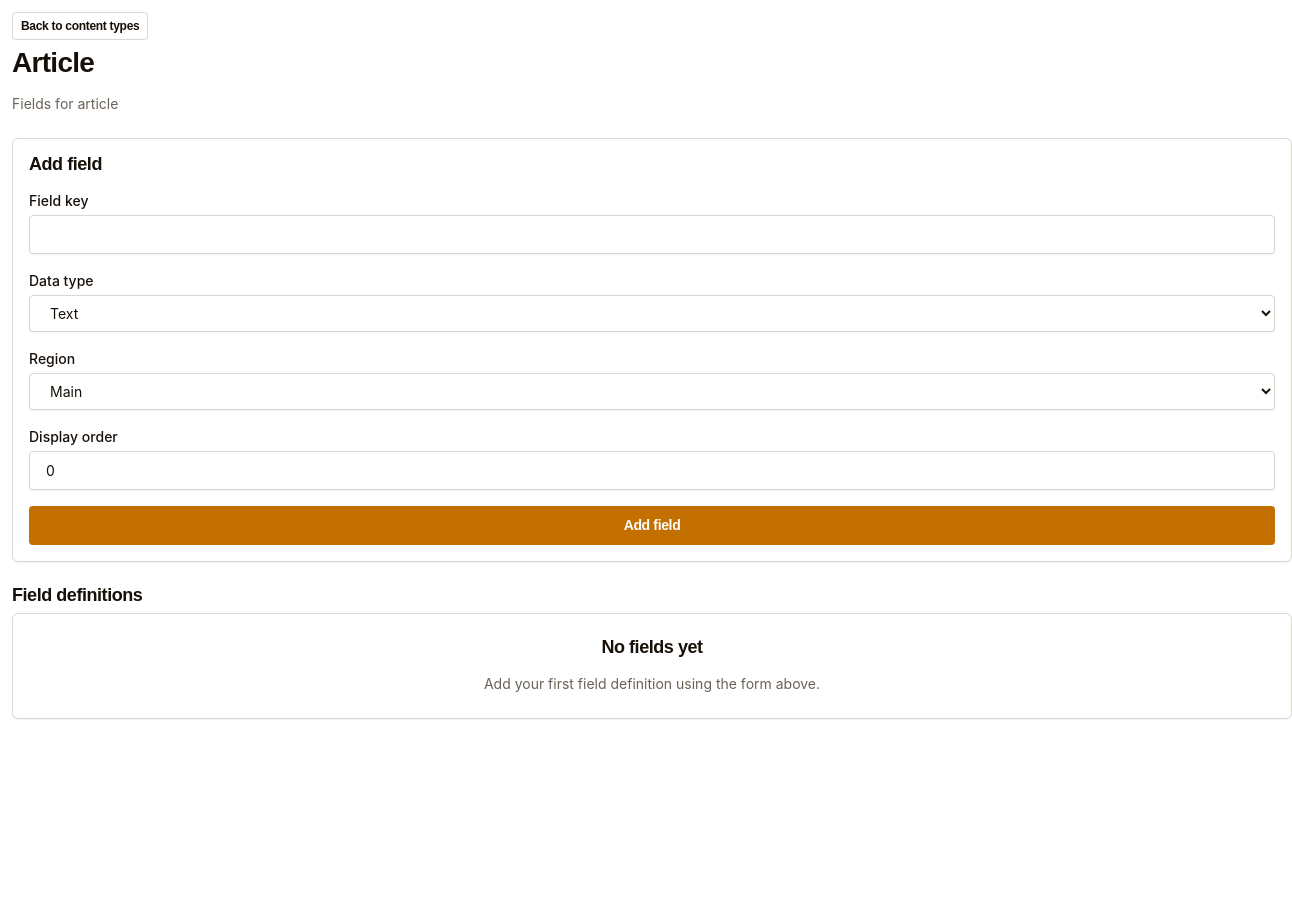
FieldDefsPage › requires a target content type for relation fields
Expected: the heading "Article" is shown, x1=12 y1=48 x2=94 y2=77
Select "Relation" in the dropdown labelled "Data type" at [652, 314], box x1=29 y1=295 x2=1275 y2=332
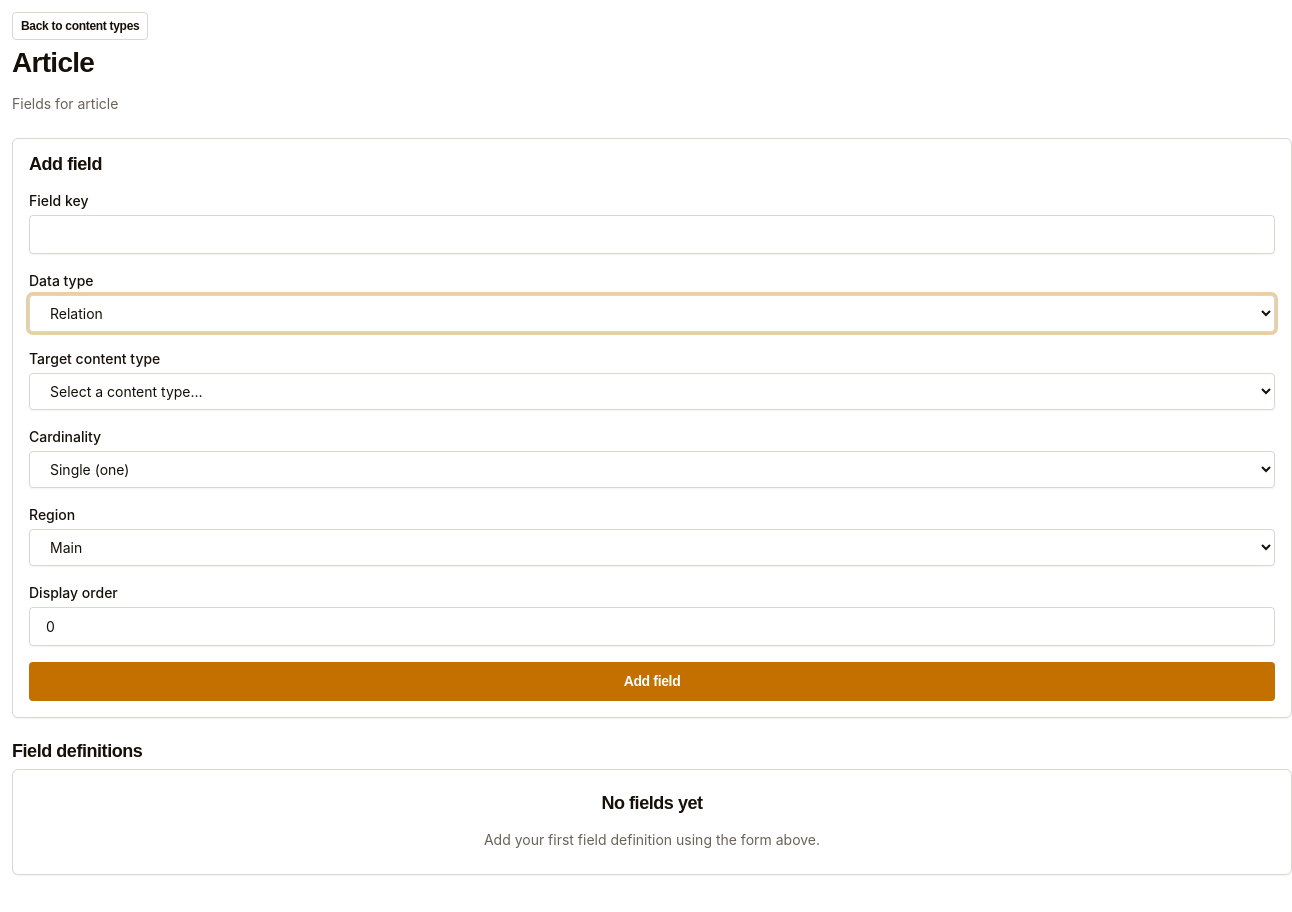
Type "author" into the field labelled "Field key".
click(652, 235); type("author")  # box x1=29 y1=215 x2=1275 y2=254
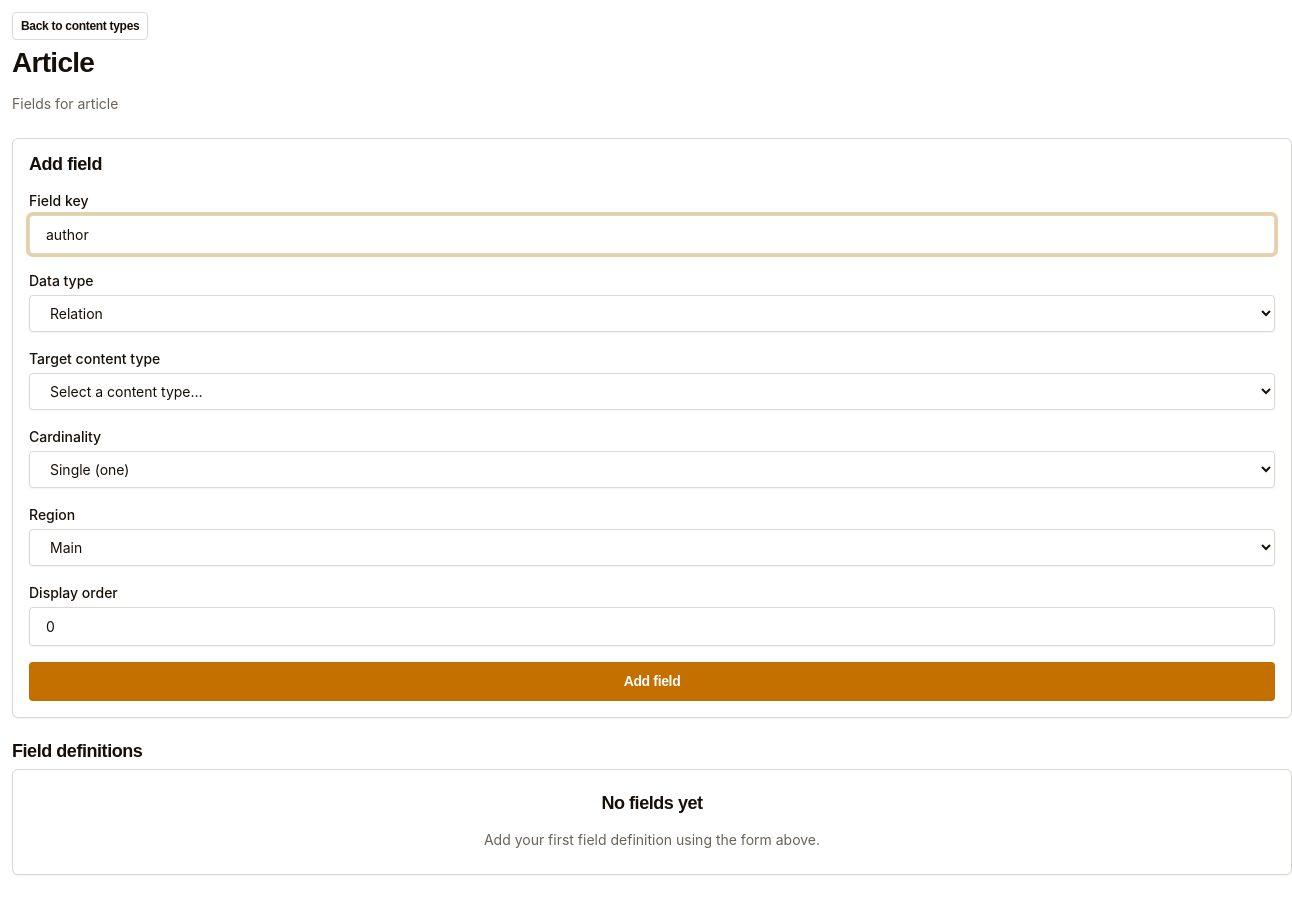
Click the button "Add field".
click(652, 682)  # box x1=29 y1=662 x2=1275 y2=701
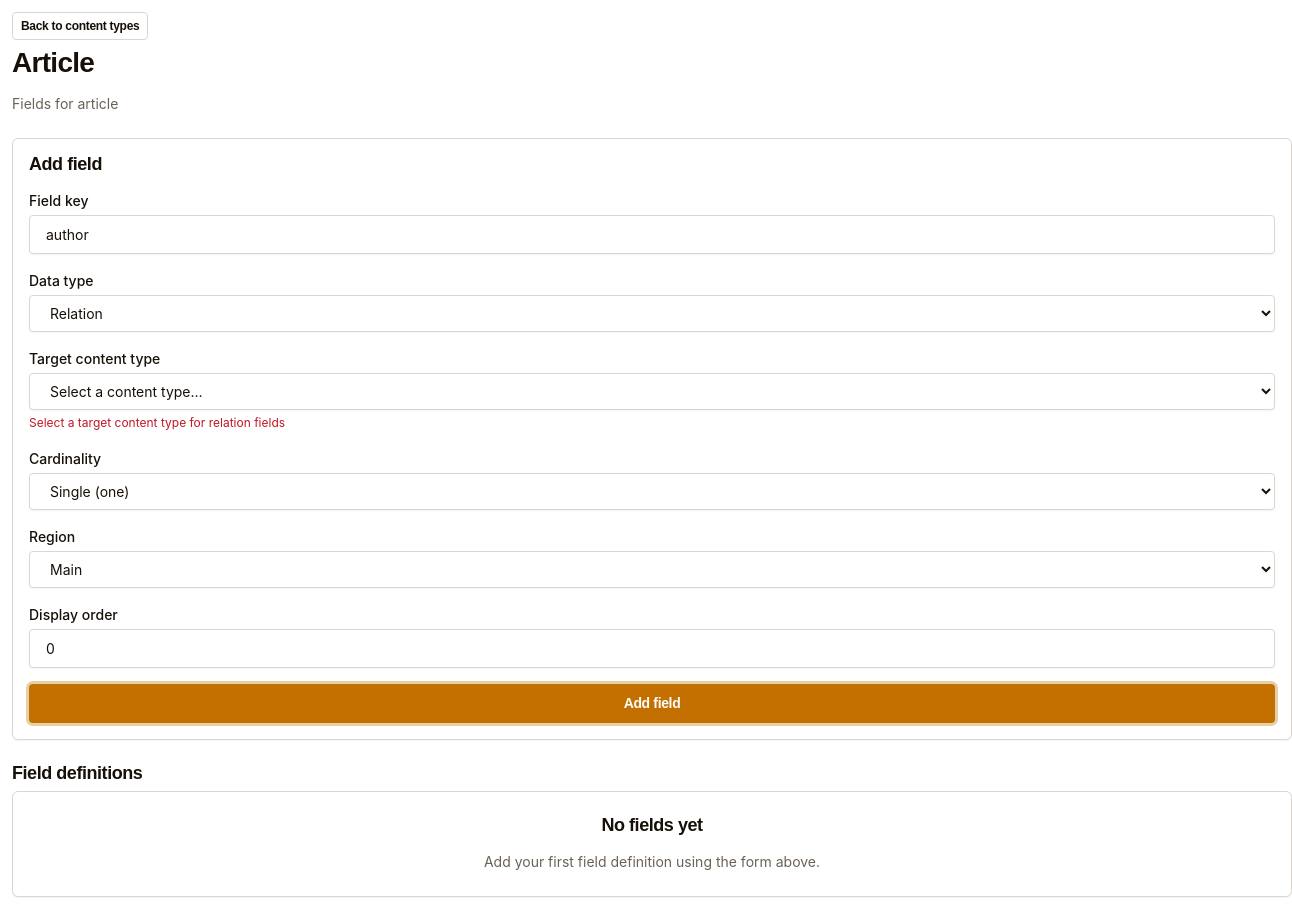
Expected: the text "Select a target content type for relation fields" is shown, x1=29 y1=415 x2=285 y2=430
